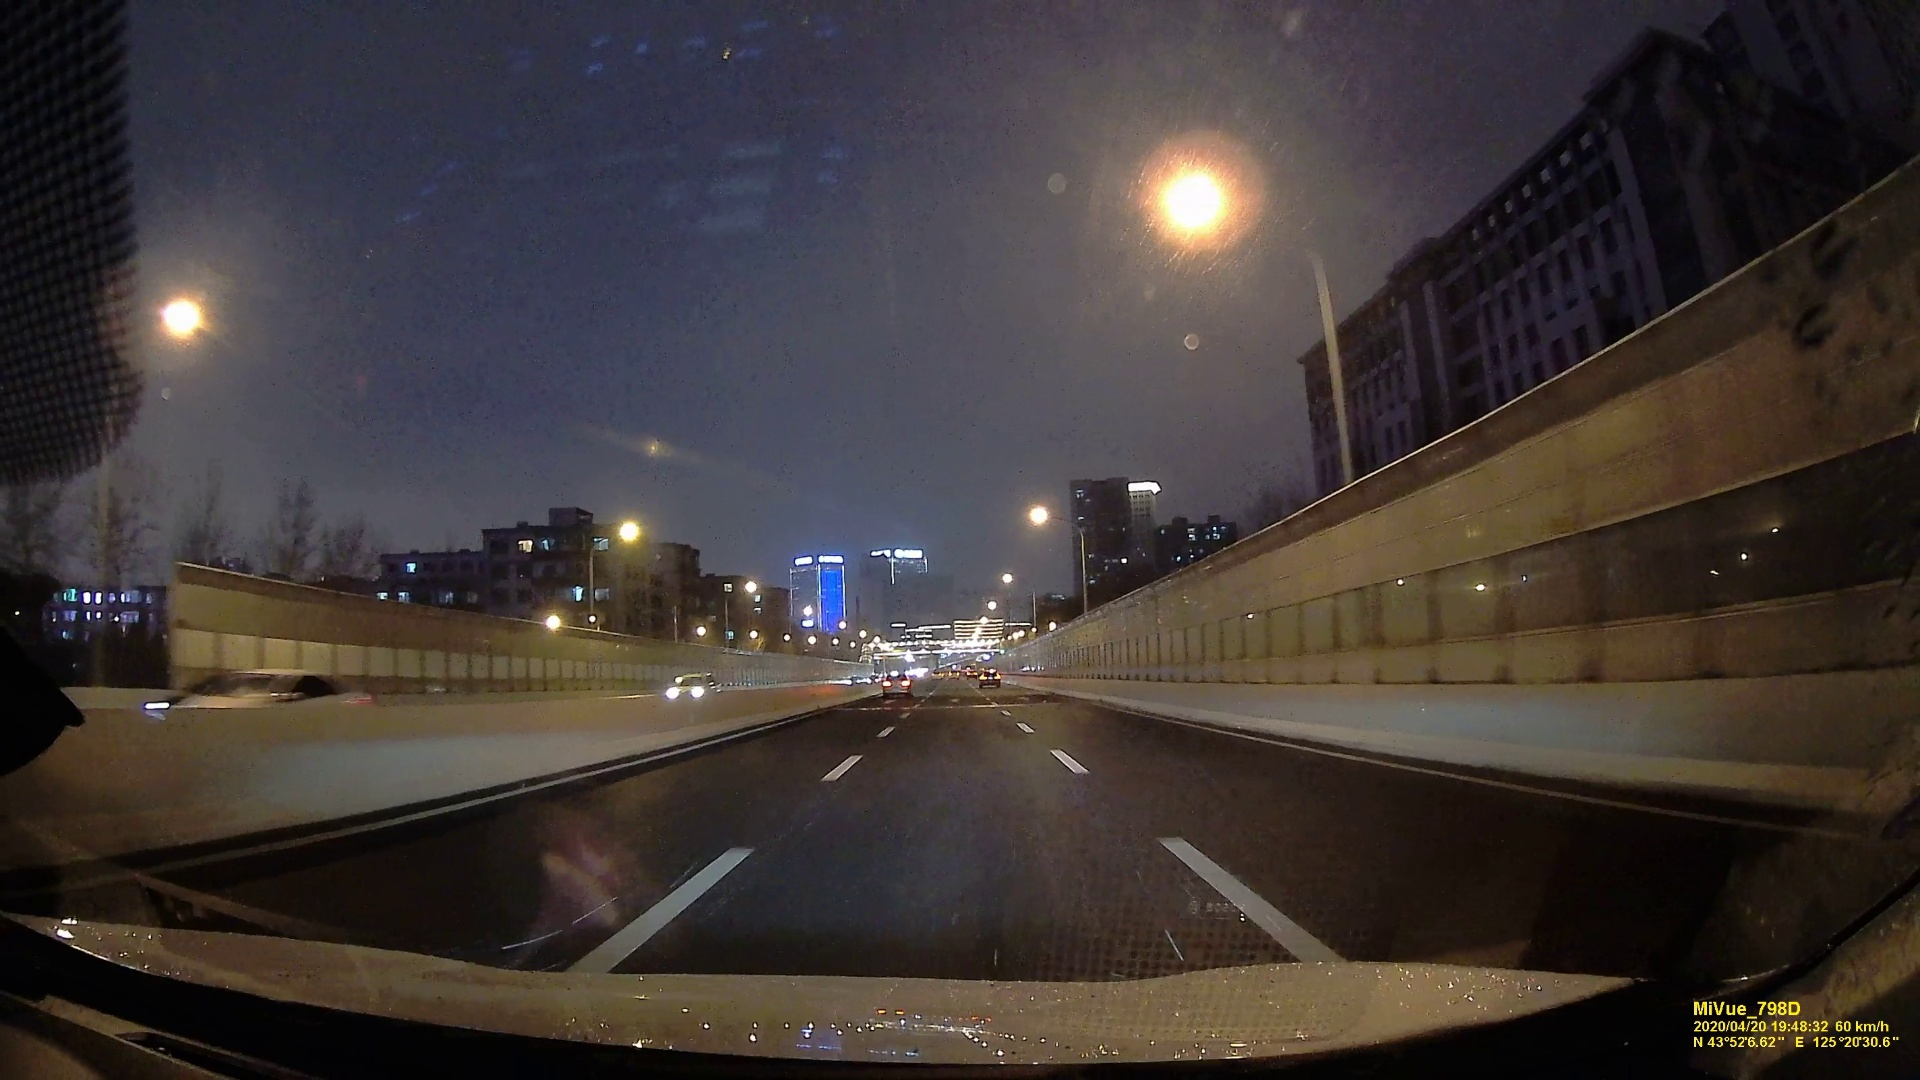vehicle: (666, 671, 719, 699), (880, 673, 913, 698), (978, 669, 1004, 687)
